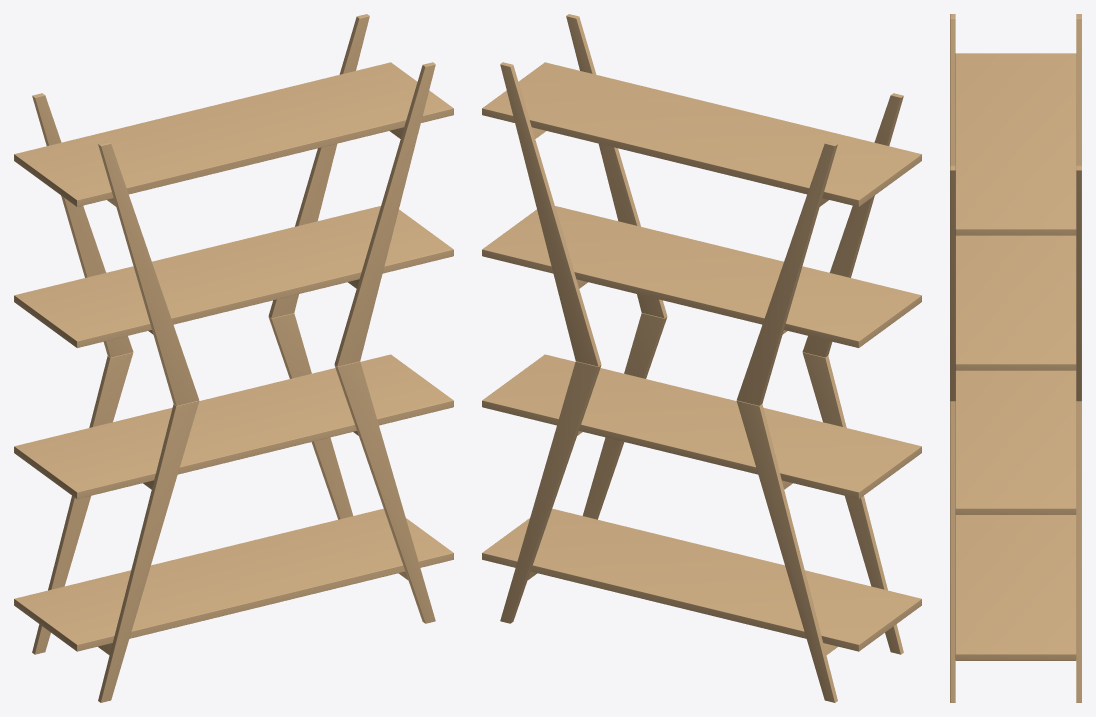
Rendered from estante-chardonnay.glb.
3 renders of one model, left to right at view 1: azimuth 30°, elevation 25°; view 2: azimuth 150°, elevation 25°; view 3: azimuth 270°, elevation 25°, orthographic. The views are drawn at different scales.
Bounding box in the file's own units: 1.29 × 1.83 × 0.41.
